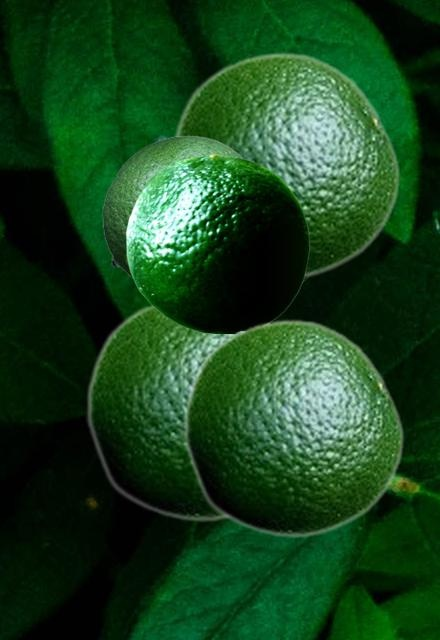calamansi: (171, 51, 400, 279), (182, 318, 404, 538), (126, 153, 308, 332), (85, 301, 230, 522), (102, 135, 244, 280)
